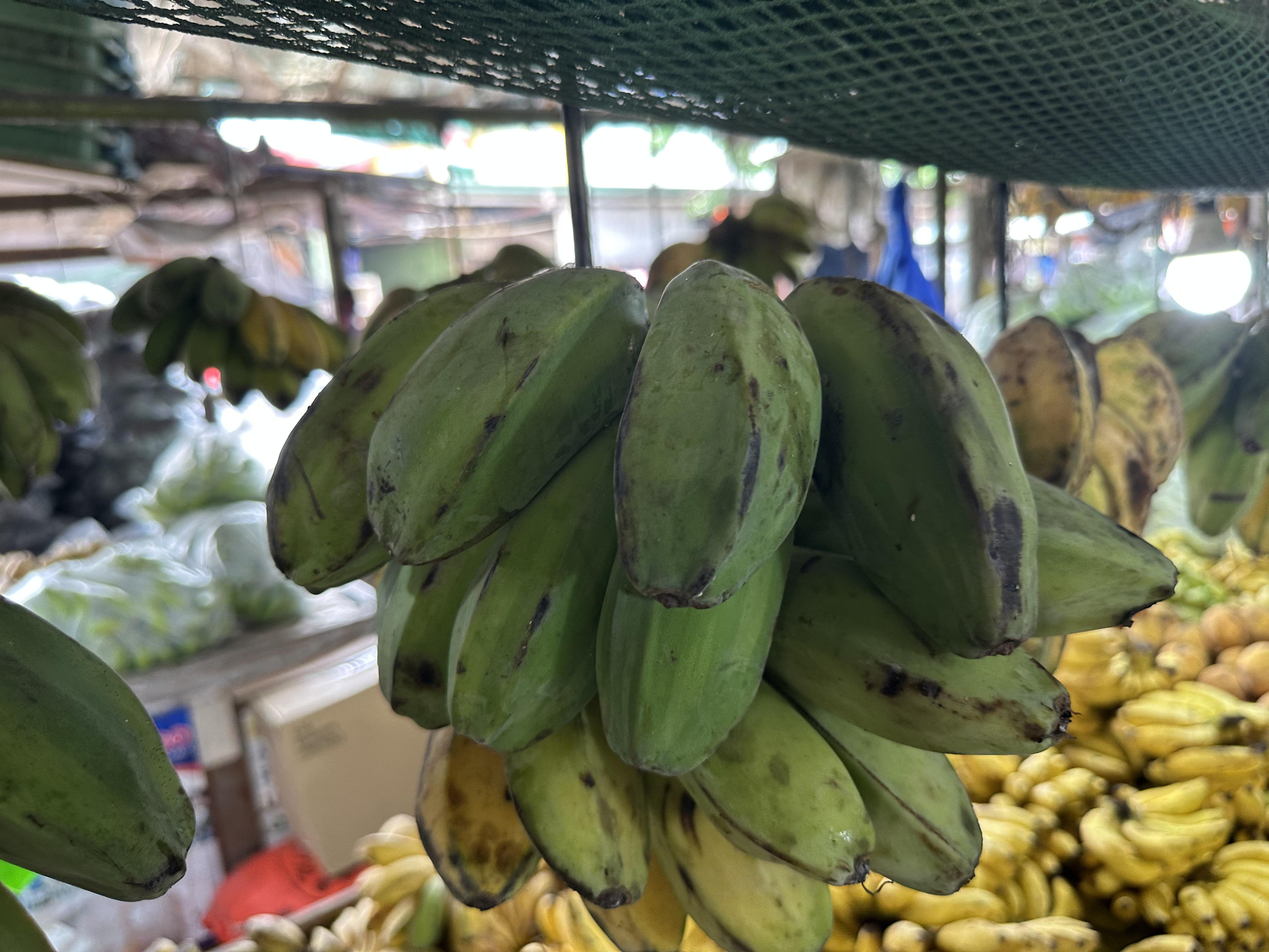underripe: (268, 260, 1035, 774), (416, 548, 1068, 952)
